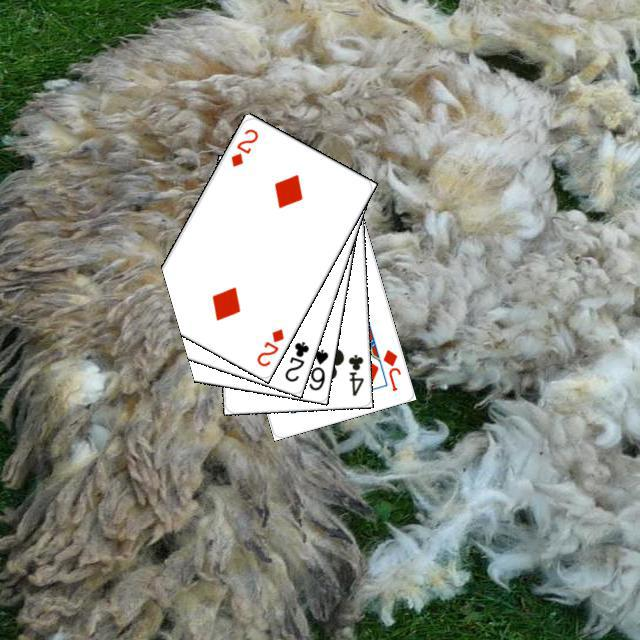2c: (280, 336, 311, 383)
2d: (252, 323, 286, 368), (226, 124, 260, 169)
4c: (343, 349, 365, 397)
6s: (304, 344, 330, 392)
Jd: (378, 344, 402, 393)
